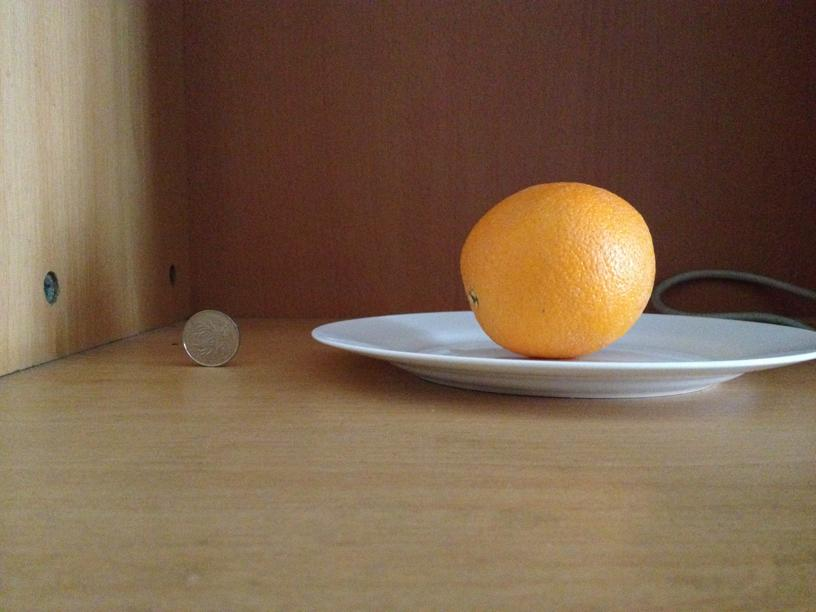coin: (184, 310, 238, 367)
orange: (460, 180, 656, 356)
